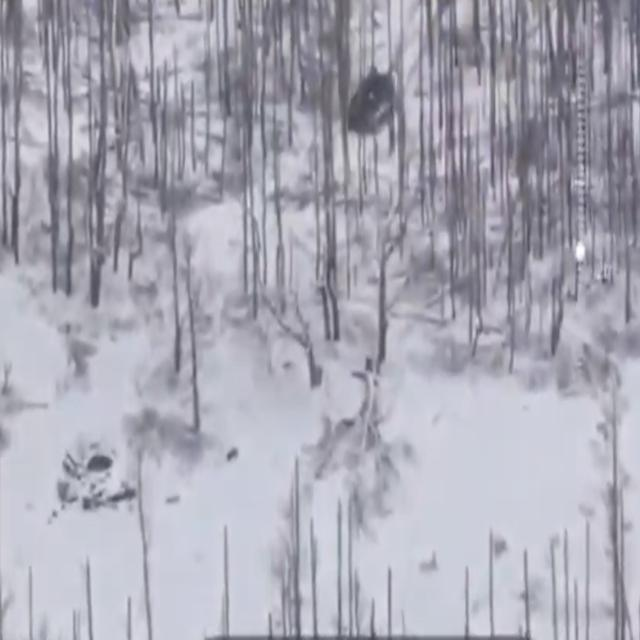vehicle: (347, 63, 397, 136)
